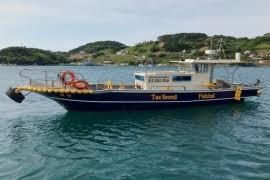Ship: (7, 55, 268, 115)
